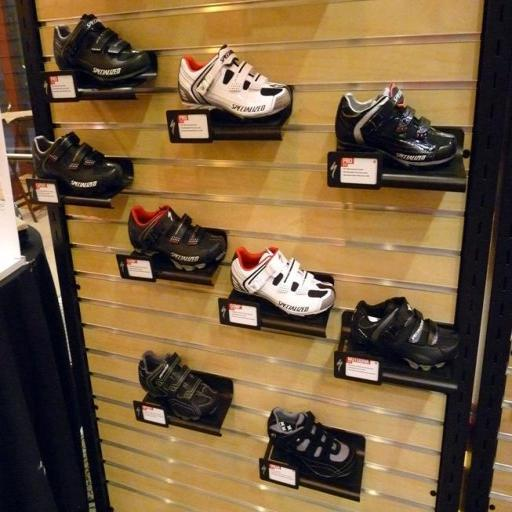shoe: (335, 83, 457, 166), (178, 45, 292, 118), (351, 297, 458, 370), (230, 247, 336, 316), (54, 14, 152, 87), (128, 205, 226, 271), (267, 407, 356, 479), (31, 132, 123, 197), (138, 351, 219, 420)
